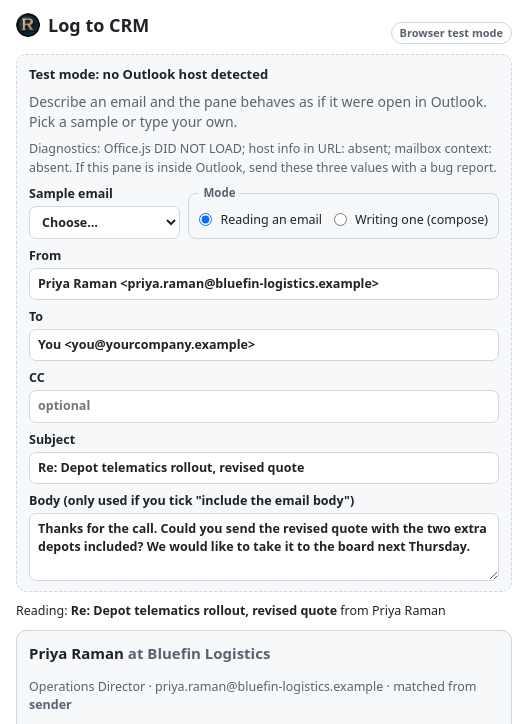
Test: browser test mode › compose mode matches recipients instead of the sender
The width and height of the screenshot is (529, 724).
expect the heading "Priya Raman at Bluefin Logistics" is shown: met, box 29,643 -> 270,663
Click the radio button labelled "Writing one (compose)" at (341,220), box 334,213 -> 347,226
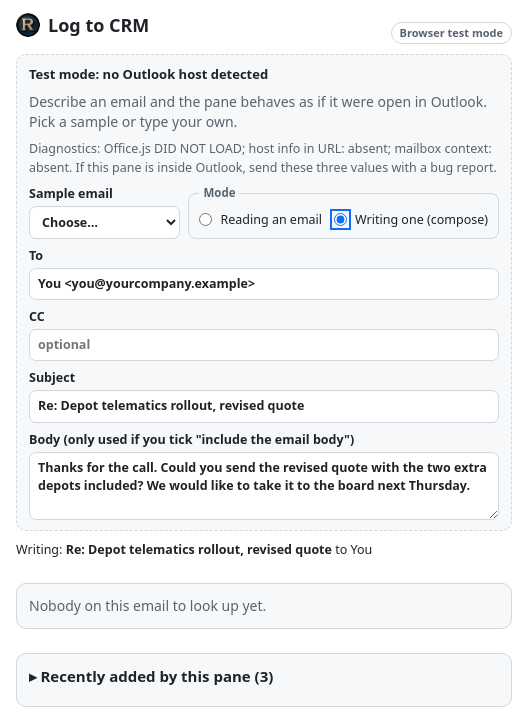
Replace the text in the field labelled "To" with "Wesley Thorne <wes.thorne@granitepeak.example>" at (264,284), box 29,268 -> 499,300
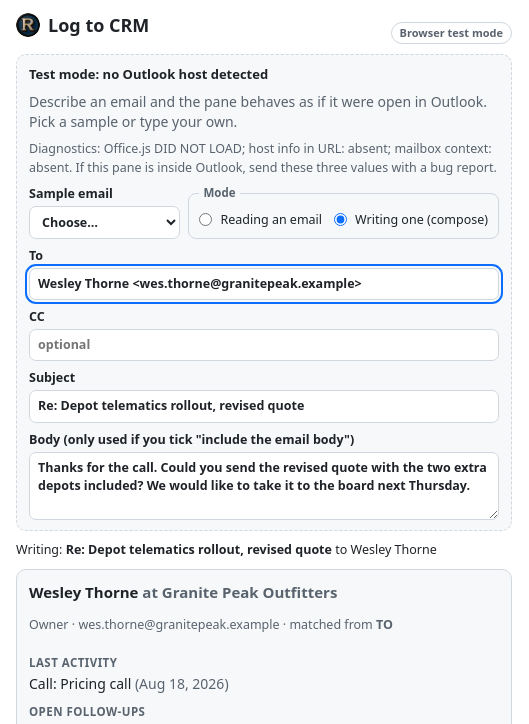
expect the heading "Wesley Thorne at Granite Peak Outfitters" is shown: met, box 29,582 -> 337,602
expect the text "Owner · wes.thorne@granitepeak.example · matched from TO" is shown: met, box 29,616 -> 393,633
